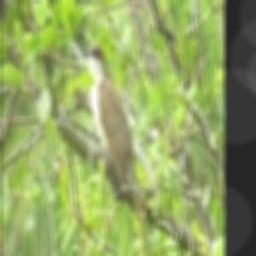Cuckoo: (85, 44, 149, 256)
